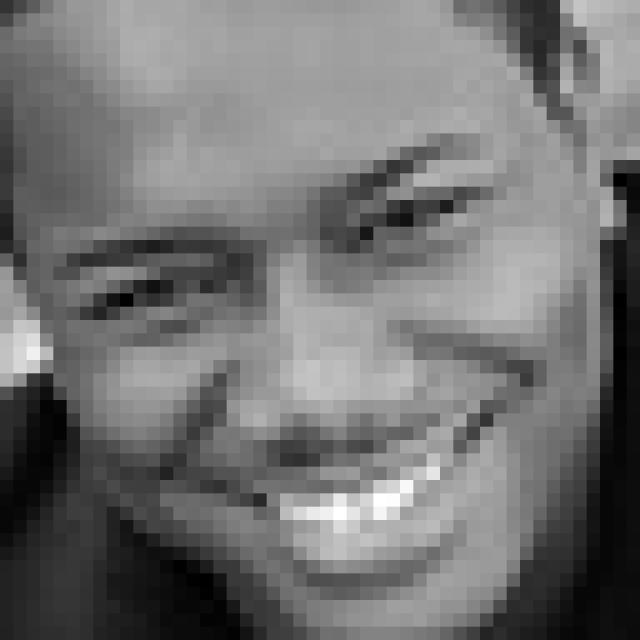happy: (54, 125, 527, 592)
